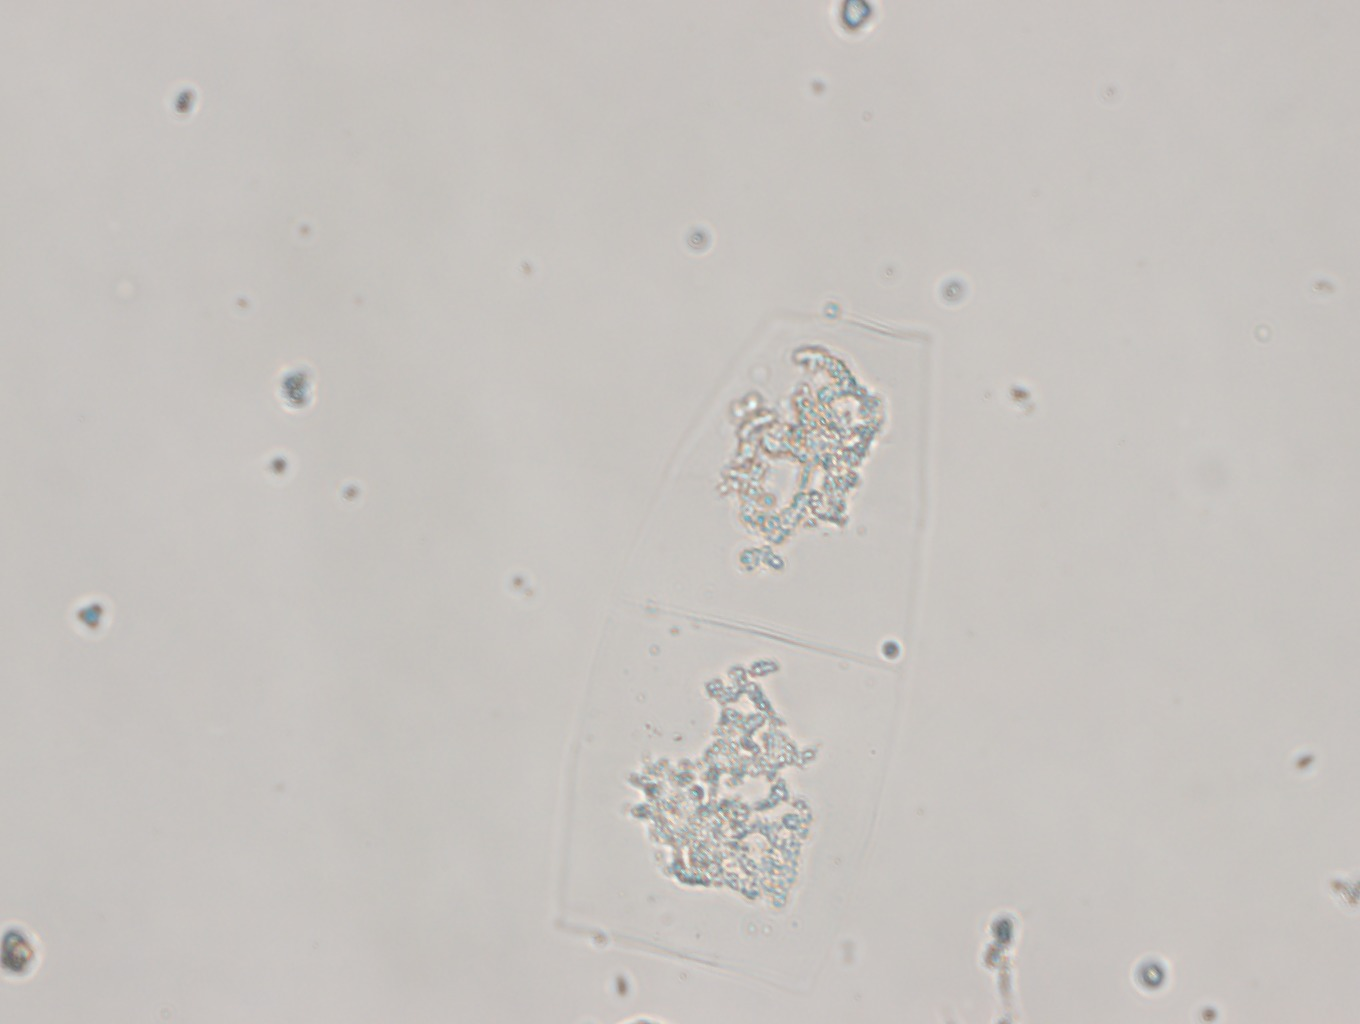helicotheca: (546, 257, 956, 994)
